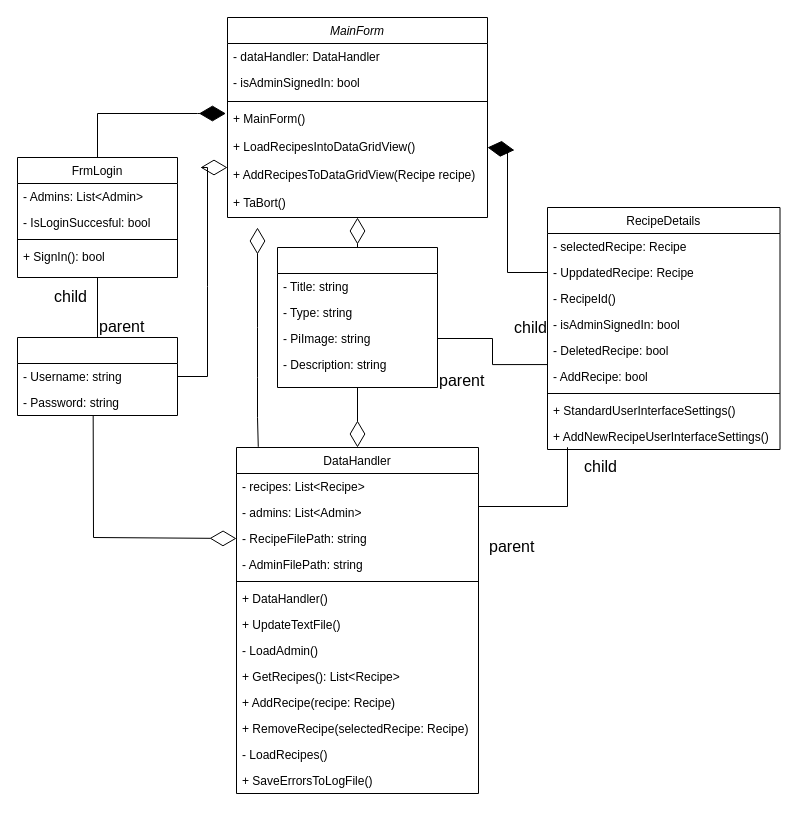
The diagram is 798 pixels wide and 814 high, and some of its shapes have lost their labels. The shapes that lost their labels are listed below. From the top down, each one's box as (x1, y1, x2, y2) in pixels, then its label:
(276, 246, 438, 388): Recipe
(16, 336, 178, 416): Admin
